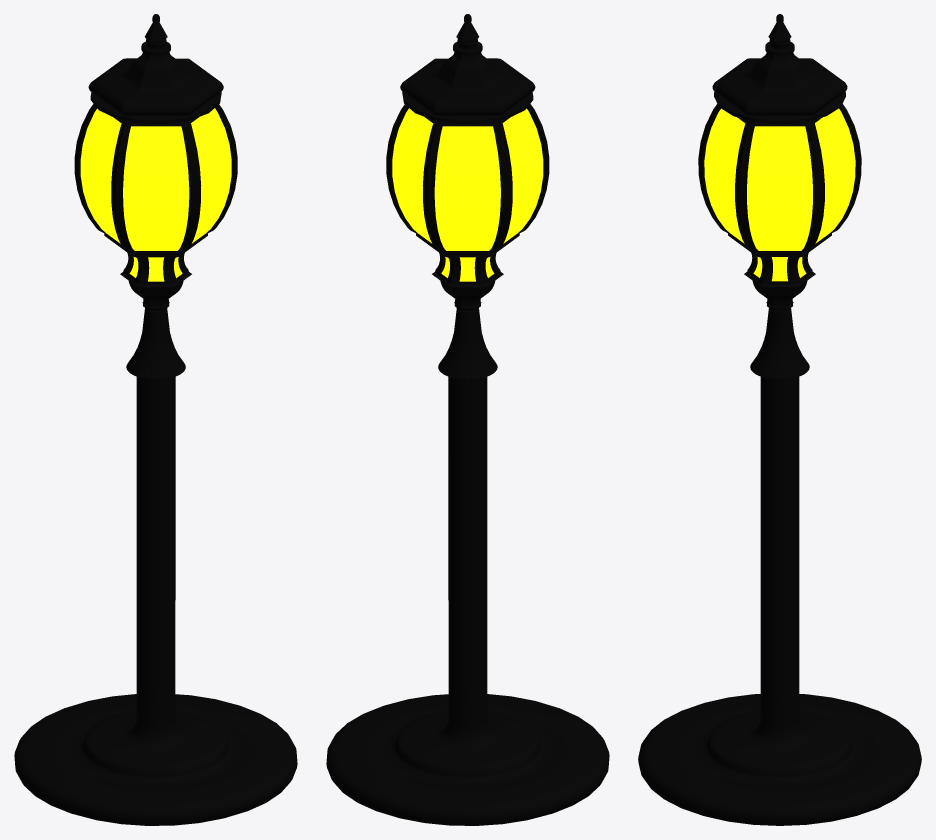
File: lamp.glb
3 renders of one model, left to right at view 1: azimuth 30°, elevation 25°; view 2: azimuth 150°, elevation 25°; view 3: azimuth 270°, elevation 25°, orthographic.
Parts seen in each view (by area): view 1: Body_02_C_Body_02_C_0, Light_02_C_Light_02_C_0; view 2: Body_02_C_Body_02_C_0, Light_02_C_Light_02_C_0; view 3: Body_02_C_Body_02_C_0, Light_02_C_Light_02_C_0.
Part boxes in pixels (box(x1,y1,x2,y2)): Body_02_C_Body_02_C_0: box(14, 14, 297, 825); Light_02_C_Light_02_C_0: box(80, 108, 231, 281); Body_02_C_Body_02_C_0: box(326, 14, 609, 825); Light_02_C_Light_02_C_0: box(392, 108, 543, 281); Body_02_C_Body_02_C_0: box(638, 14, 921, 825); Light_02_C_Light_02_C_0: box(704, 108, 855, 281).
Size of the model in its own units: 96.58 by 284 by 96.58.
2 materials, 2 textured.
